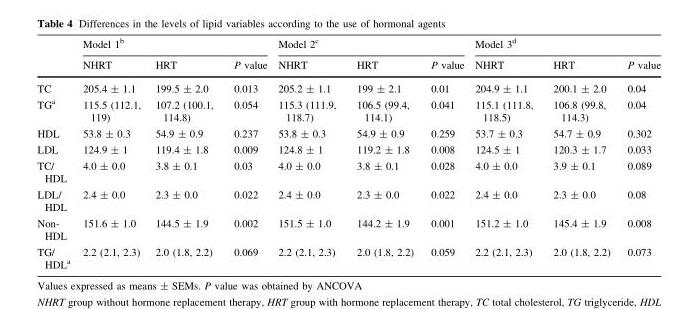table: (36, 37, 660, 269)
table column: (345, 37, 421, 269), (542, 37, 618, 269), (147, 37, 222, 269), (468, 37, 542, 269), (272, 37, 345, 269), (75, 37, 147, 269), (222, 37, 272, 269), (421, 37, 468, 269), (618, 37, 660, 269), (36, 37, 75, 269)
table column header: (36, 37, 660, 76)
table row: (36, 95, 660, 125), (36, 157, 660, 186), (36, 186, 660, 215), (36, 215, 660, 244), (36, 244, 660, 269), (36, 54, 660, 76), (36, 76, 660, 95), (36, 37, 660, 54), (36, 125, 660, 141), (36, 141, 660, 157)
table spanning cell: (75, 37, 272, 54), (272, 37, 468, 54), (468, 37, 660, 54)
